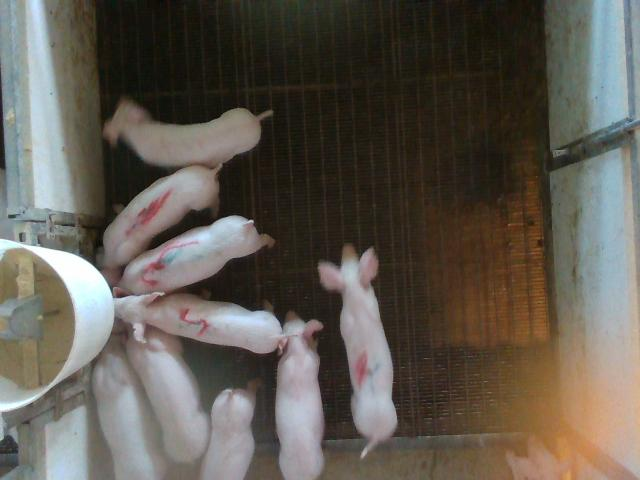pig-1: (104, 165, 218, 267)
pig-3: (118, 215, 275, 295)
pig-4: (318, 244, 398, 458)
pig-5: (114, 292, 285, 353)
